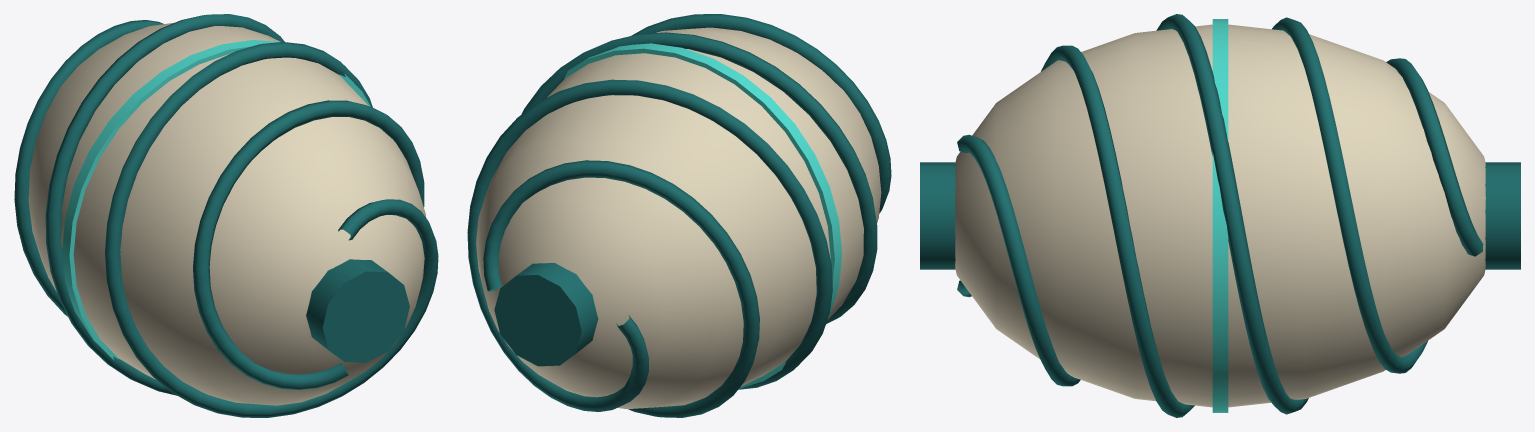
The model's file is k5_field.obj.
The picture shows the model from 3 angles, left to right: view 1: azimuth 30°, elevation 25°; view 2: azimuth 150°, elevation 25°; view 3: azimuth 270°, elevation 25°; orthographic projection. The views are drawn at different scales.
Visible parts, largest first — view 1: k5_field; view 2: k5_field; view 3: k5_field.
Part boxes in pixels (bbox=[...]): k5_field: bbox=[14, 14, 438, 417]; k5_field: bbox=[467, 14, 891, 417]; k5_field: bbox=[920, 14, 1520, 417].
Bounding box in the file's own units: 1.33 × 1.33 × 1.97.
